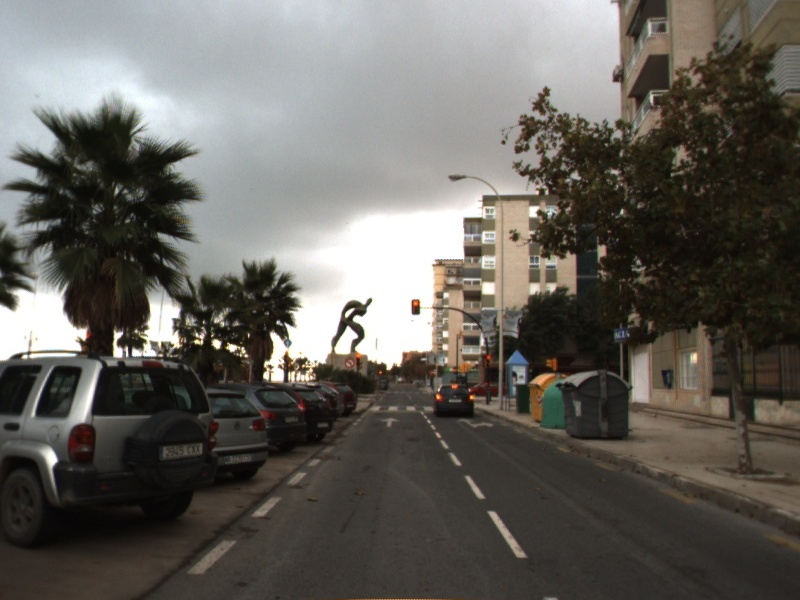STRAIGHT: (380, 415, 401, 428)
STRAIGHT_RIGHT: (455, 416, 496, 430)
